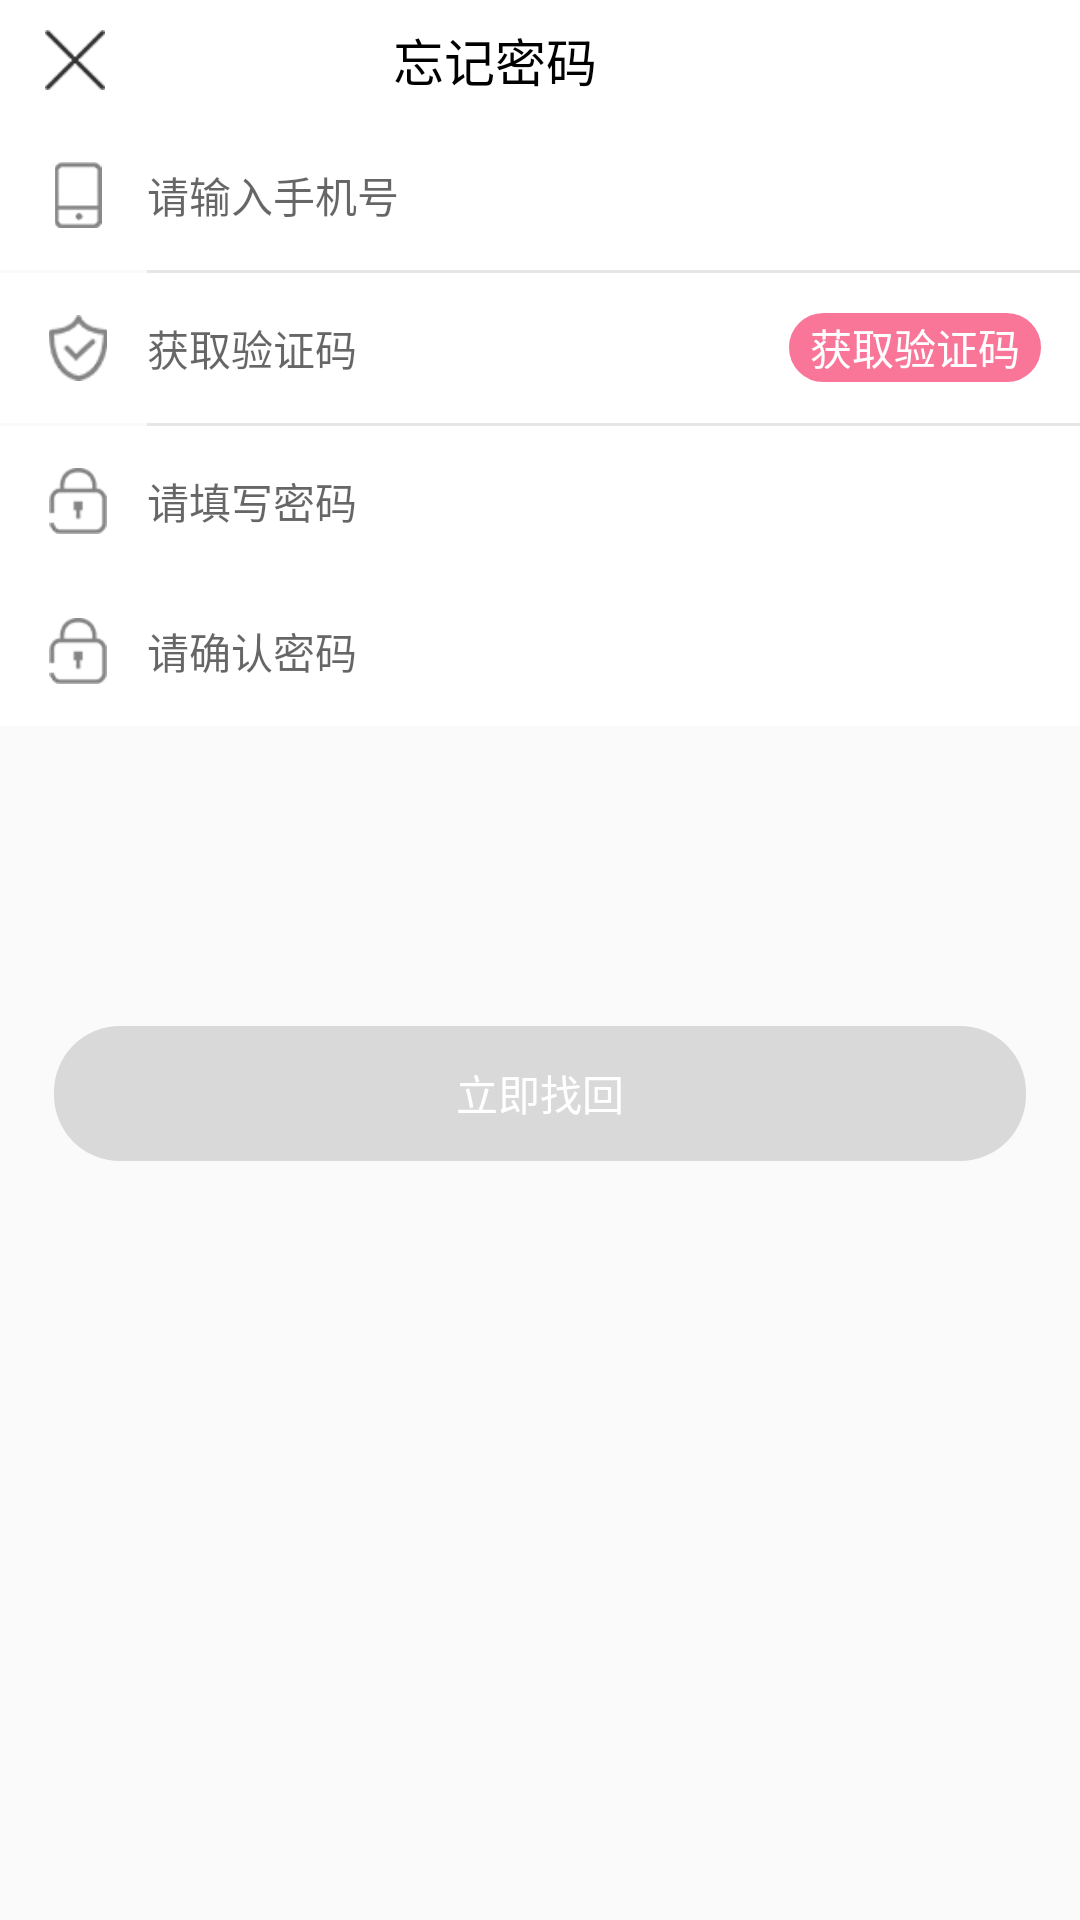

Named icons in this screenshot (1080x1920) and their centers, (x,y):
finish: (75,60)
pwd defend: (78,348)
pwd lock: (78,501), (78,651)
pwd phone: (78,195)
